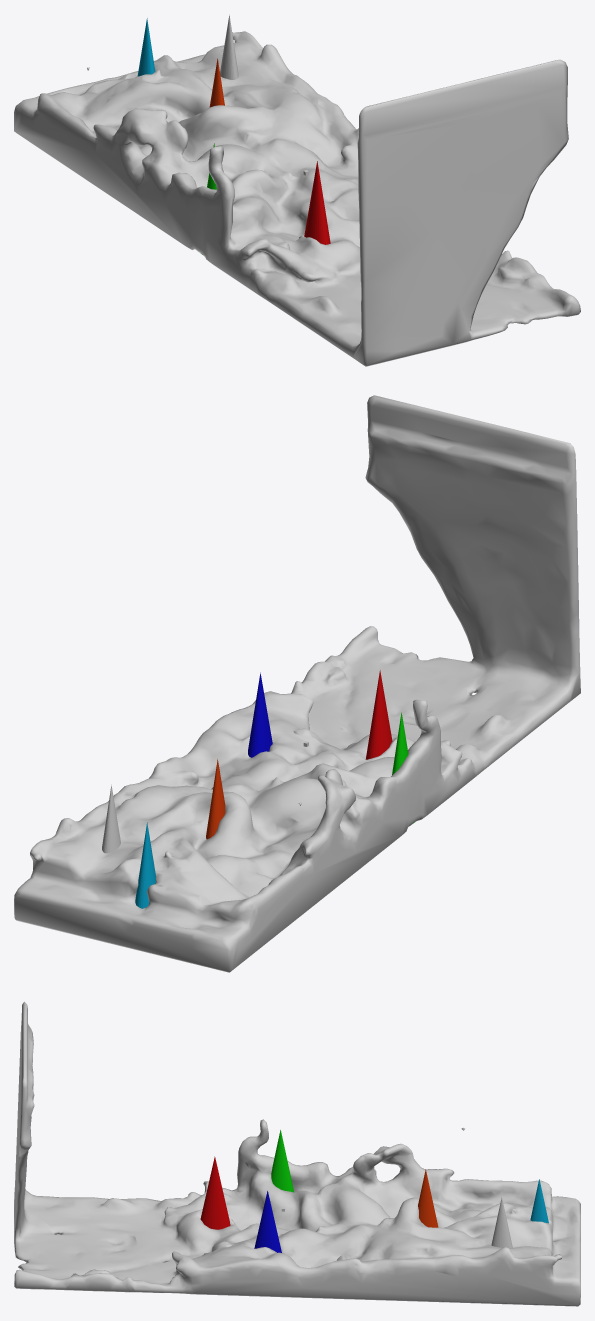
The picture shows the model from 3 angles, top to bottom: view 1: azimuth 30°, elevation 25°; view 2: azimuth 150°, elevation 25°; view 3: azimuth 270°, elevation 25°; orthographic projection. The views are drawn at different scales.
Visible parts, largest first — view 1: Liquid_Domain, 円錐.001, 円錐, 円錐.005; view 2: Liquid_Domain, 円錐.001, 円錐.002, 円錐.005, 円錐.004, 円錐; view 3: Liquid_Domain, 円錐.001, 円錐.002, 円錐.003, 円錐.004, 円錐, 円錐.005.
Part boxes in pixels (x1,y1,x2,y2): Liquid_Domain: [14, 31, 580, 366]; 円錐.001: [304, 161, 330, 244]; 円錐: [220, 14, 238, 79]; 円錐.005: [137, 18, 155, 76]; Liquid_Domain: [14, 395, 580, 972]; 円錐.001: [365, 670, 392, 759]; 円錐.002: [248, 672, 272, 757]; 円錐.005: [135, 822, 155, 908]; 円錐.004: [206, 759, 225, 839]; 円錐: [102, 784, 120, 853]; Liquid_Domain: [14, 1001, 580, 1306]; 円錐.001: [200, 1156, 230, 1229]; 円錐.002: [254, 1191, 281, 1252]; 円錐.003: [271, 1130, 293, 1192]; 円錐.004: [418, 1169, 438, 1227]; 円錐: [491, 1197, 512, 1248]; 円錐.005: [530, 1179, 548, 1223].
Bounding box in the file's own units: 129 × 158 × 361.
